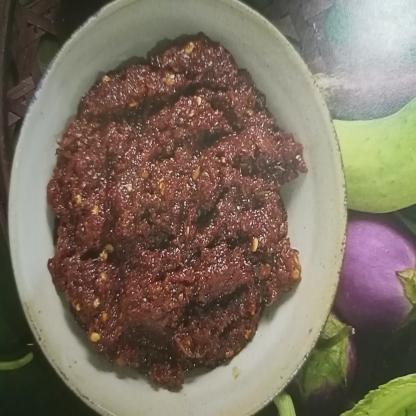Namprig: (36, 39, 319, 388)
